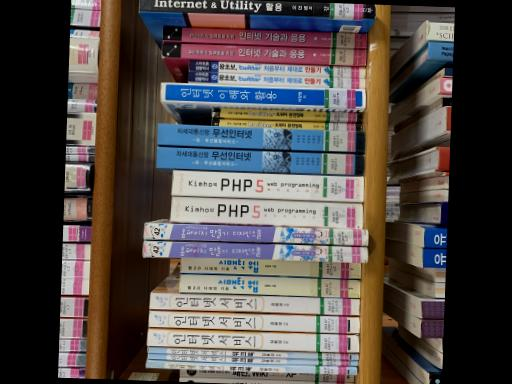book-spine: (170, 194, 363, 227), (171, 168, 364, 201), (157, 122, 364, 151), (155, 145, 364, 173), (149, 290, 359, 315), (143, 222, 368, 245), (160, 81, 366, 106), (146, 327, 360, 351), (162, 24, 367, 48), (148, 309, 360, 332), (141, 240, 368, 261), (161, 41, 366, 64), (179, 272, 360, 297), (138, 0, 376, 17), (180, 256, 360, 278), (188, 69, 365, 88), (145, 359, 357, 374), (188, 59, 365, 76), (147, 345, 358, 359), (147, 352, 358, 365), (179, 368, 354, 382), (212, 106, 363, 120), (211, 117, 361, 130), (179, 377, 354, 384)
